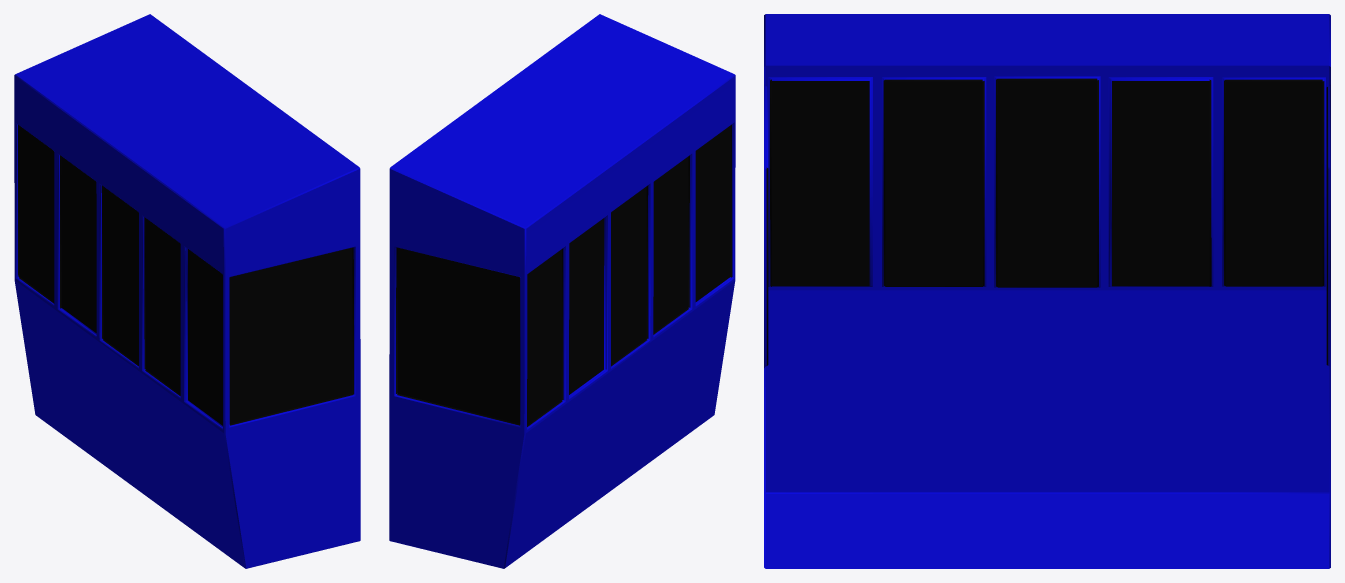
Rendered from balcon 2HI.fbx.
The picture shows the model from 3 angles, left to right: view 1: azimuth 30°, elevation 25°; view 2: azimuth 150°, elevation 25°; view 3: azimuth 270°, elevation 25°; orthographic projection. The views are drawn at different scales.
Parts seen in each view (by area): view 1: Плоскость.001; view 2: Плоскость.001; view 3: Плоскость.001.
Part boxes in pixels (x1,y1,x2,y2): Плоскость.001: [14, 14, 360, 568]; Плоскость.001: [389, 14, 735, 568]; Плоскость.001: [764, 14, 1330, 568].
Size of the model in its own units: 160 by 418 by 427.
